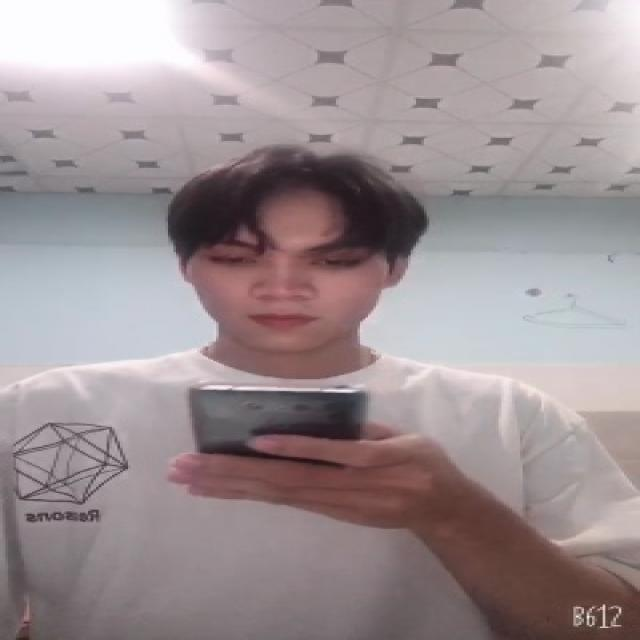Phone: (182, 375, 375, 460)
